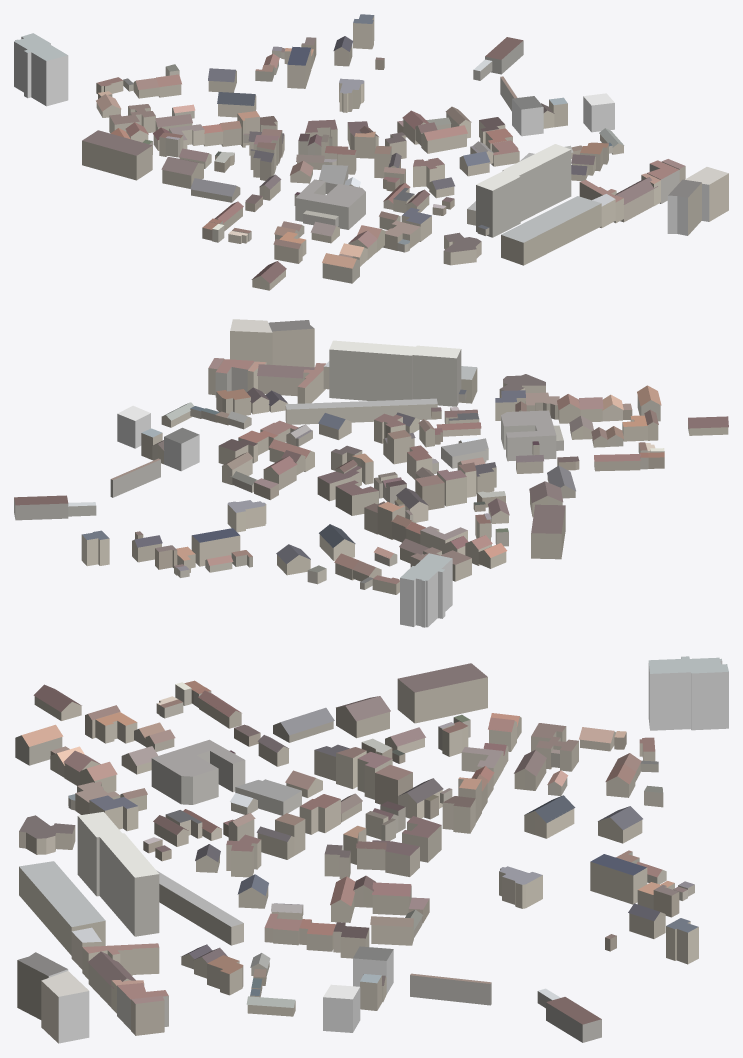
3 renders of one model, top to bottom at view 1: azimuth 30°, elevation 25°; view 2: azimuth 150°, elevation 25°; view 3: azimuth 270°, elevation 25°, orthographic. The views are drawn at different scales.
Visible parts, largest first — view 1: tuile; view 2: tuile; view 3: tuile.
Boxes of the visible parts, left/top/right/bottom form: tuile: left=14, top=14, right=728, bottom=290; tuile: left=14, top=319, right=728, bottom=627; tuile: left=15, top=656, right=728, bottom=1043.
Size of the model in its own units: 269 by 45.92 by 273.
